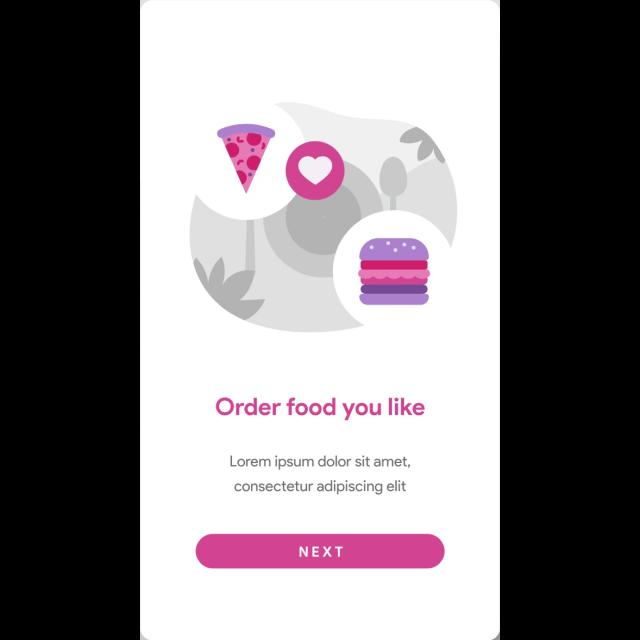image: (190, 101, 458, 332)
text: (231, 455, 411, 495), (217, 398, 426, 420)
textbutton: (197, 534, 446, 568)
